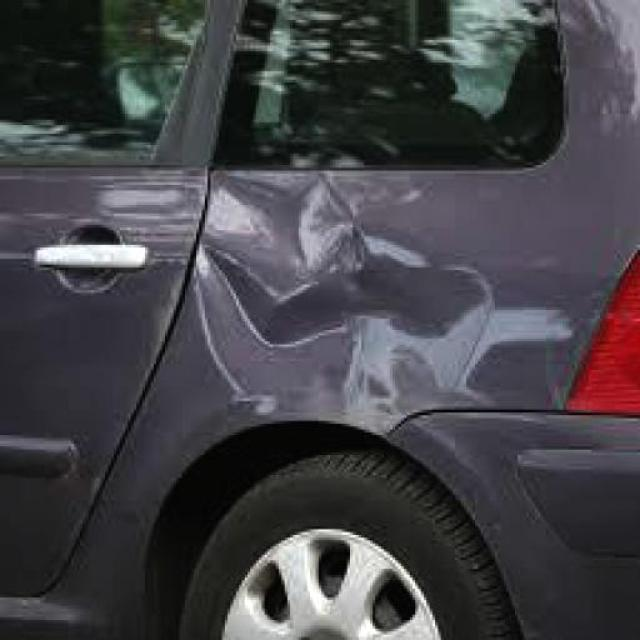car damage: (182, 174, 496, 444)
